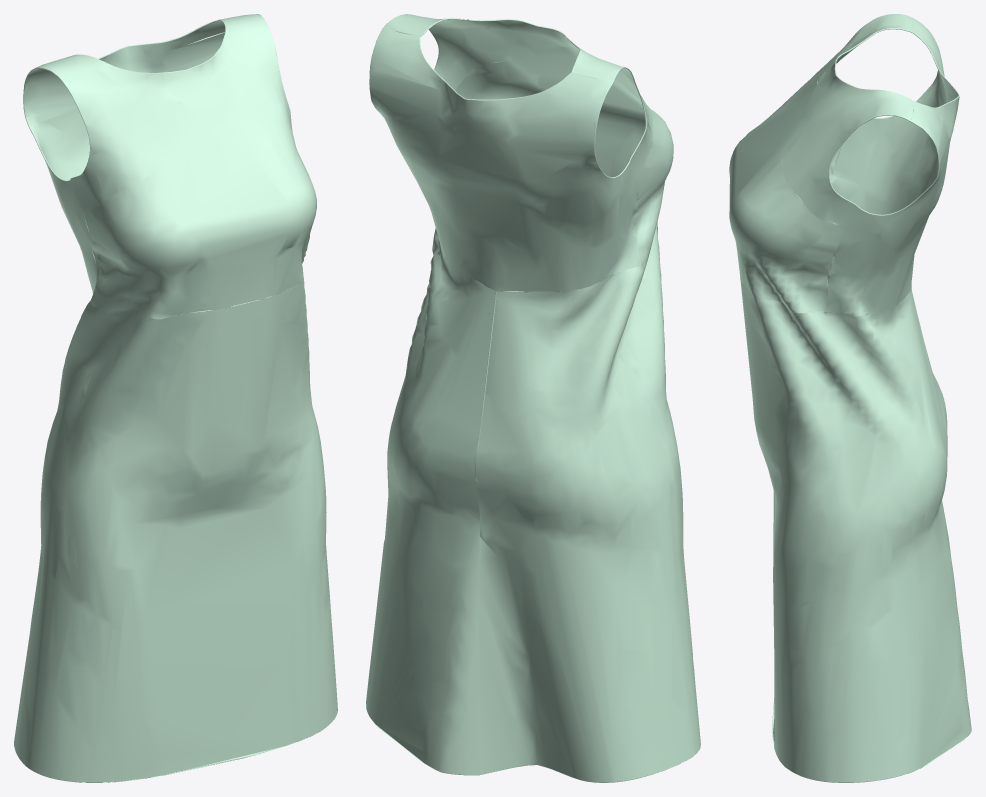
The model's file is handless female dress.fbx.
3 views of the same model, side by side, from view 1: azimuth 30°, elevation 25°; view 2: azimuth 150°, elevation 25°; view 3: azimuth 270°, elevation 25° (orthographic). The views are drawn at different scales.
Parts seen in each view (by area): view 1: Pattern2D_5105901, Pattern2D_1555215, Pattern2D_1553374; view 2: Pattern2D_5105901, Pattern2D_1553374, Pattern2D_1555215; view 3: Pattern2D_5105901, Pattern2D_1555215, Pattern2D_1553374.
Part boxes in pixels (box(x1,y1,x2,y2)): Pattern2D_5105901: box(14, 281, 337, 782); Pattern2D_1555215: box(36, 14, 316, 319); Pattern2D_1553374: box(23, 14, 251, 303); Pattern2D_5105901: box(366, 222, 700, 782); Pattern2D_1553374: box(369, 28, 640, 292); Pattern2D_1555215: box(383, 14, 673, 264); Pattern2D_5105901: box(740, 275, 971, 782); Pattern2D_1555215: box(729, 14, 913, 313); Pattern2D_1553374: box(826, 17, 959, 316).
Size of the model in its own units: 331 by 720 by 238.
